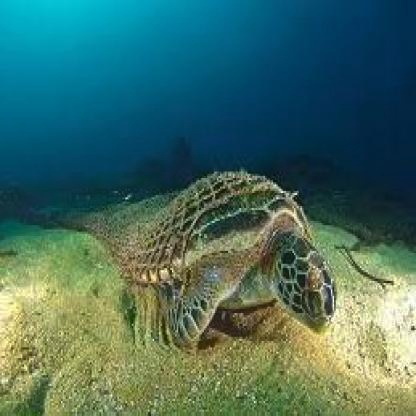net: (60, 170, 288, 289)
